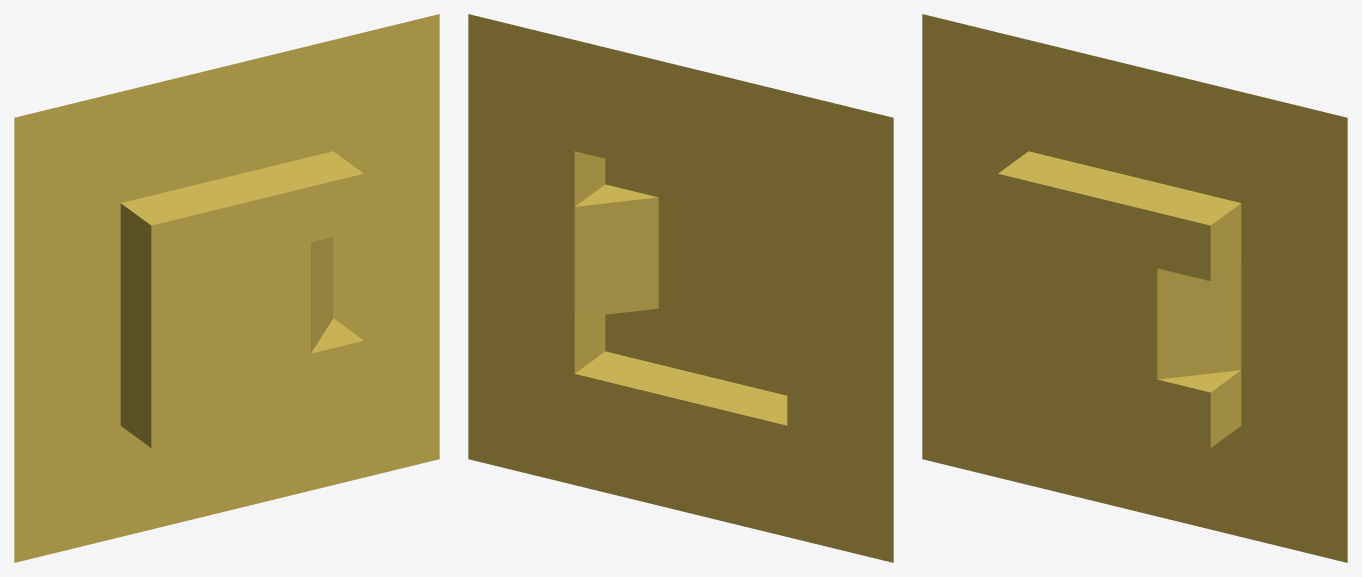
Rendered from ramp2.obj.
The picture shows the model from 3 angles, left to right: view 1: azimuth 30°, elevation 25°; view 2: azimuth 150°, elevation 25°; view 3: azimuth 330°, elevation 25°; orthographic projection.
Visible parts, largest first — view 1: Rectangle001; view 2: Rectangle001; view 3: Rectangle001.
Boxes of the visible parts, x1,y1,x2,y2 form: Rectangle001: [14, 14, 439, 562]; Rectangle001: [468, 14, 893, 562]; Rectangle001: [922, 14, 1347, 562].
Size of the model in its own units: 80 by 80 by 10.
